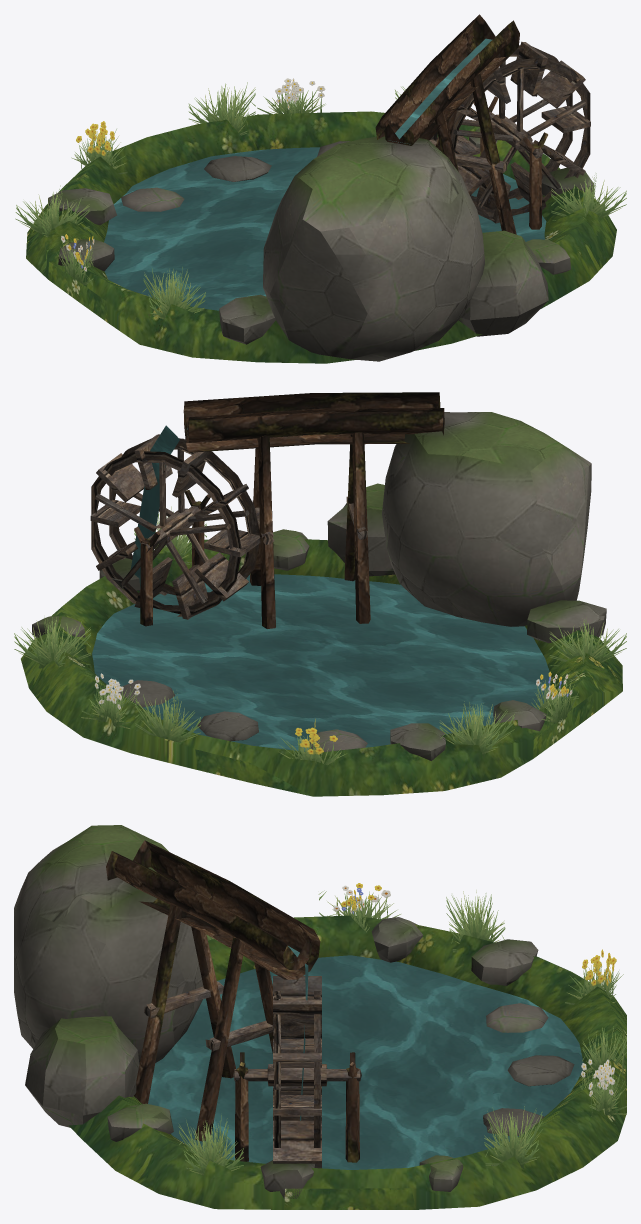
The model's file is neutral_hale_spring.glb.
The picture shows the model from 3 angles, top to bottom: view 1: azimuth 30°, elevation 25°; view 2: azimuth 150°, elevation 25°; view 3: azimuth 270°, elevation 25°; orthographic projection. The views are drawn at different scales.
Parts seen in each view (by area): view 1: neutral_hale_spring, waterwheel; view 2: neutral_hale_spring, waterwheel; view 3: neutral_hale_spring, waterwheel.
Part boxes in pixels (x1,y1,x2,y2): neutral_hale_spring: [15, 14, 626, 363]; waterwheel: [429, 41, 590, 223]; neutral_hale_spring: [14, 392, 626, 796]; waterwheel: [90, 434, 260, 619]; neutral_hale_spring: [14, 825, 626, 1209]; waterwheel: [267, 976, 327, 1168].
Size of the model in its own units: 4 by 1.77 by 4.
Materials: 2 (2 with a texture image).
